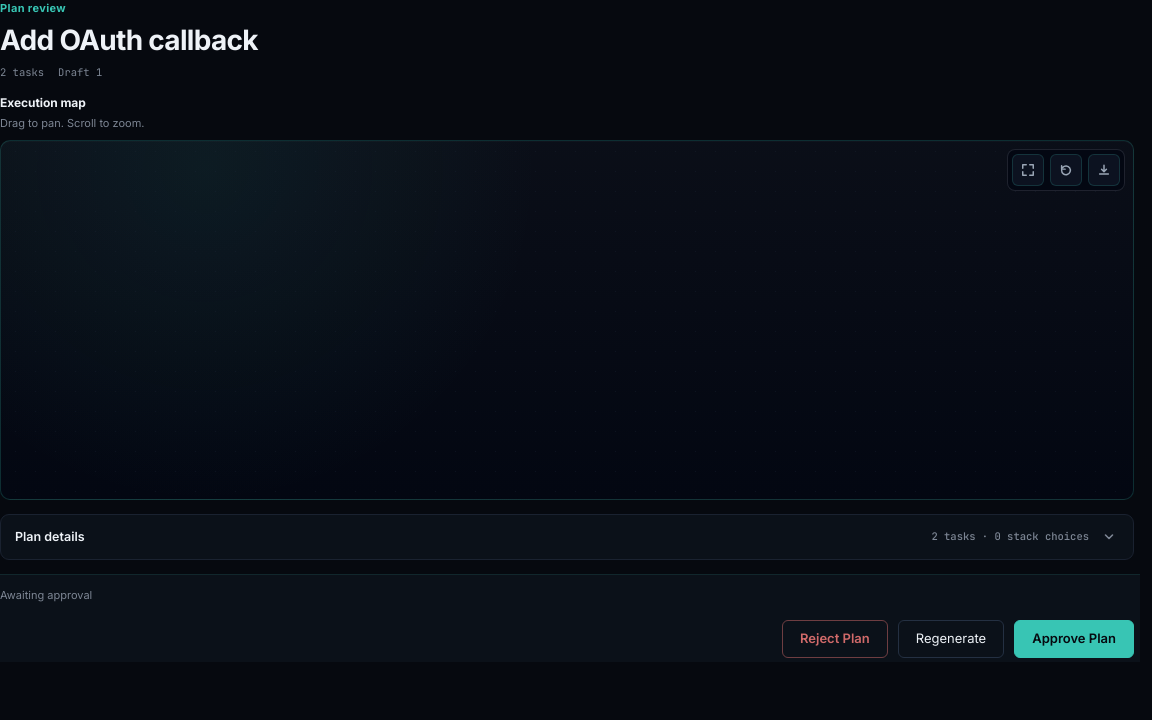
Test: MissionPlanPreview QC-3 › provides the full task decision context in the keyboard-accessible plan details
The image size is (1152, 720).
Click the text "Plan details" at (50, 536), box [15,529,85,544]
(page scrolled)
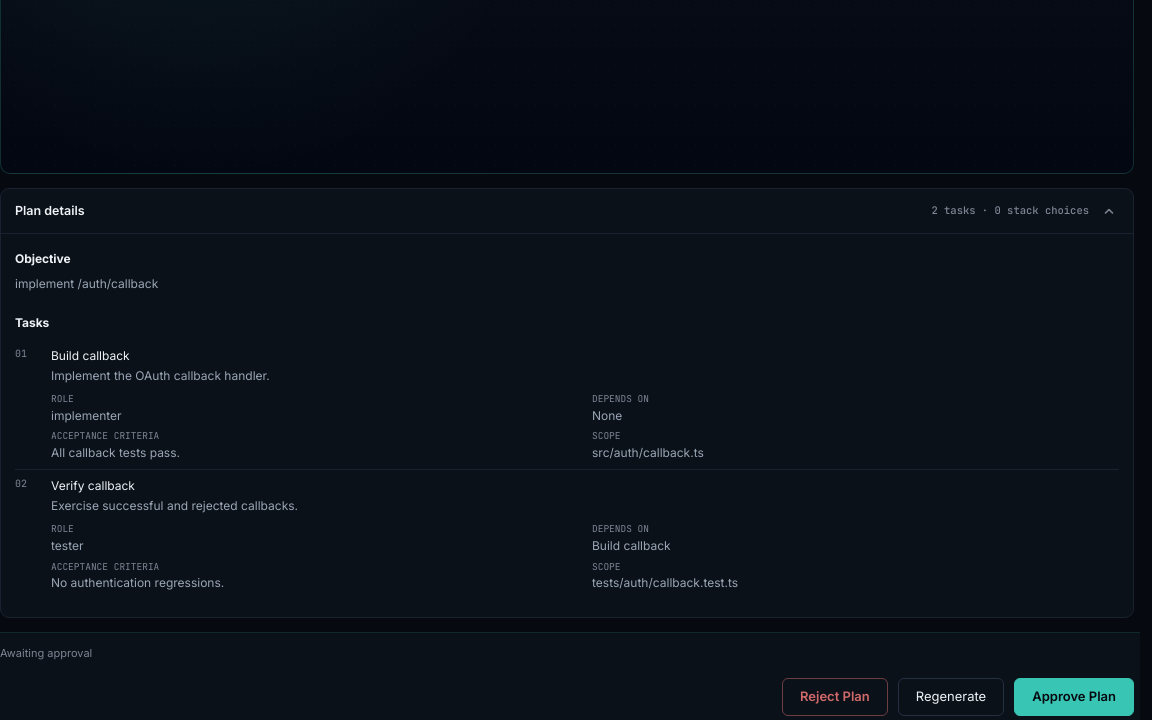
Expected: the heading "Objective" is shown, [15,251,70,266]
Expected: the text "implement /auth/callback" is shown, [15,276,158,291]
Expected: the text "Exercise successful and rejected callbacks." is shown, [51,498,298,513]
